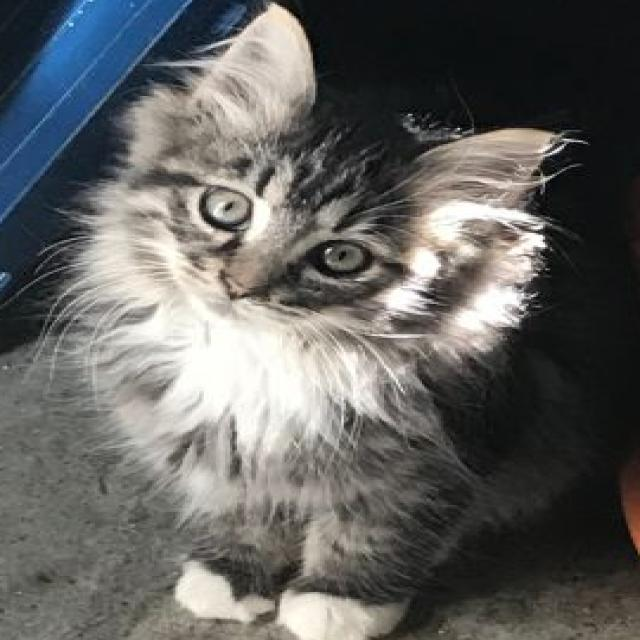Maine Coon: (54, 0, 640, 640)
